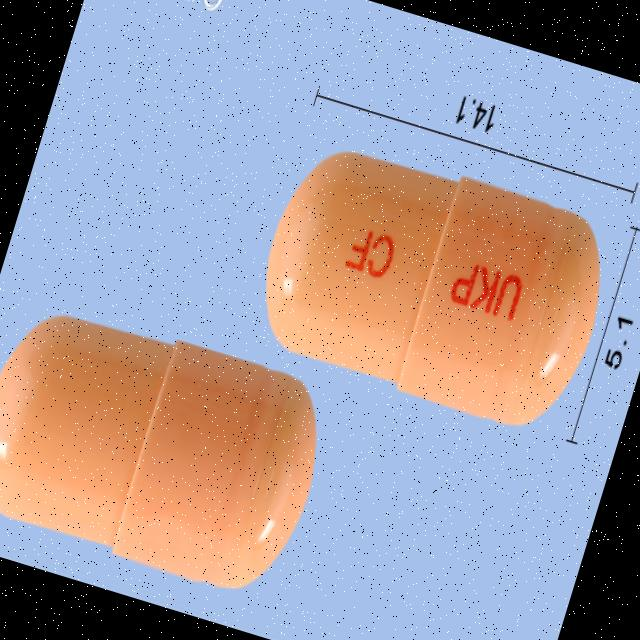Unifixime Cap: (238, 128, 626, 446), (0, 291, 338, 602)
